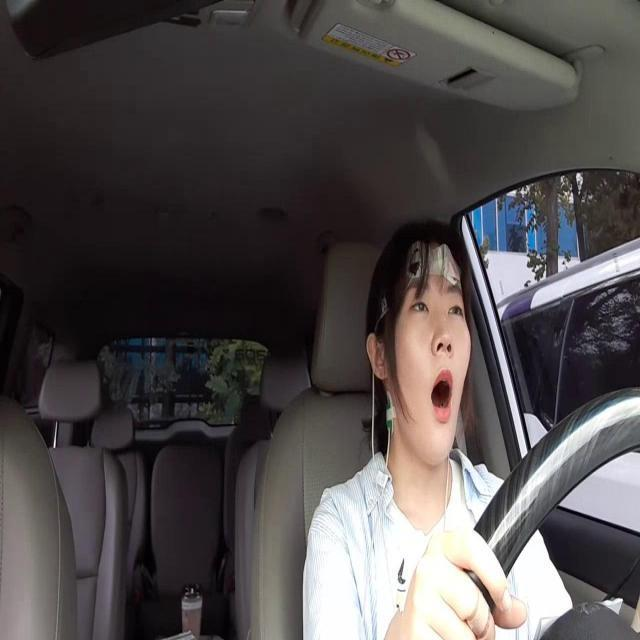Attentive: (362, 216, 472, 468)
Yawning: (428, 365, 459, 421)
